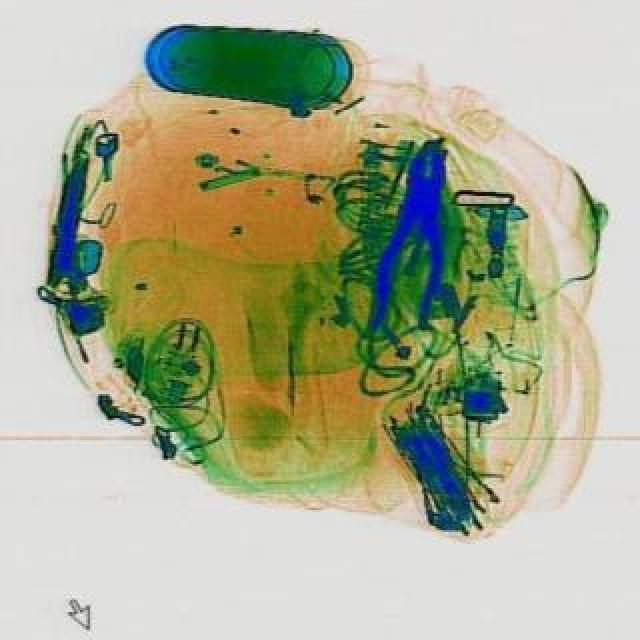wrench: (370, 140, 470, 340)
